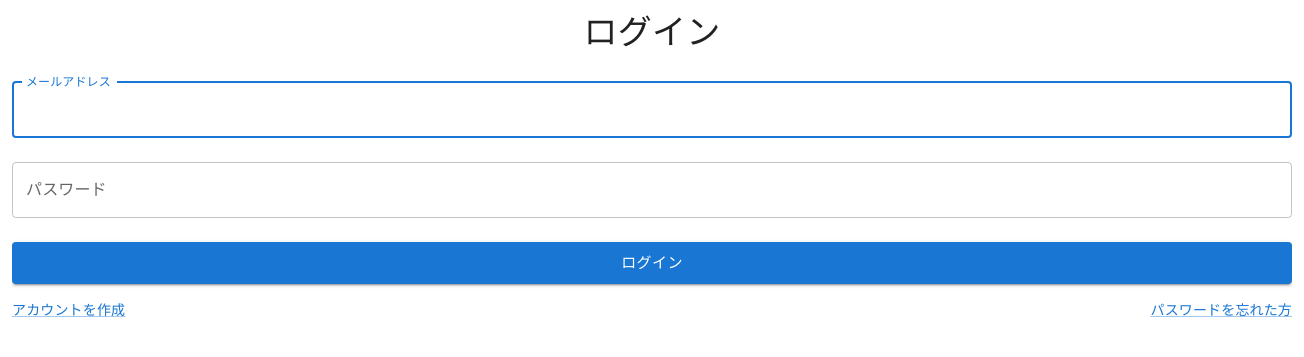
Test: LoginForm › パスワード未入力でバリデーションエラーを表示する
Type "test@example.com" into the field labelled "メールアドレス" at (652, 110), box x1=12 y1=82 x2=1292 y2=138
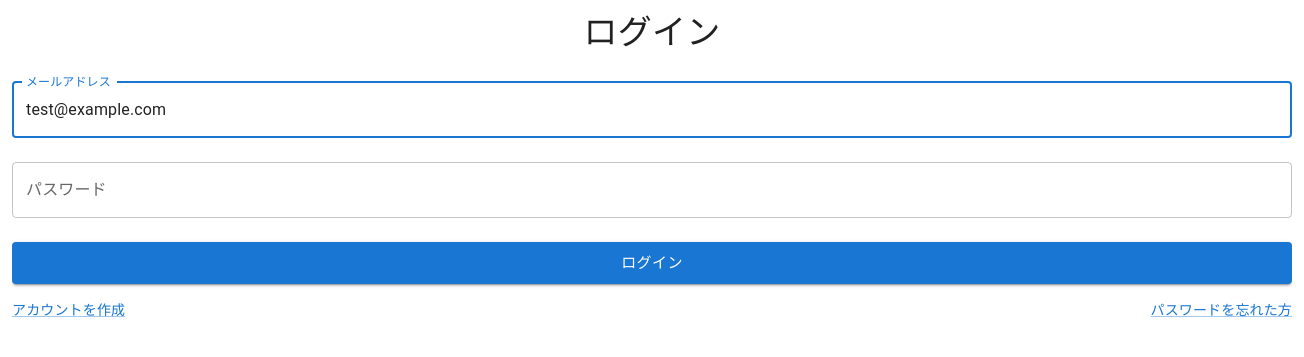
Click the button "ログイン" at (652, 263), box x1=12 y1=242 x2=1292 y2=284
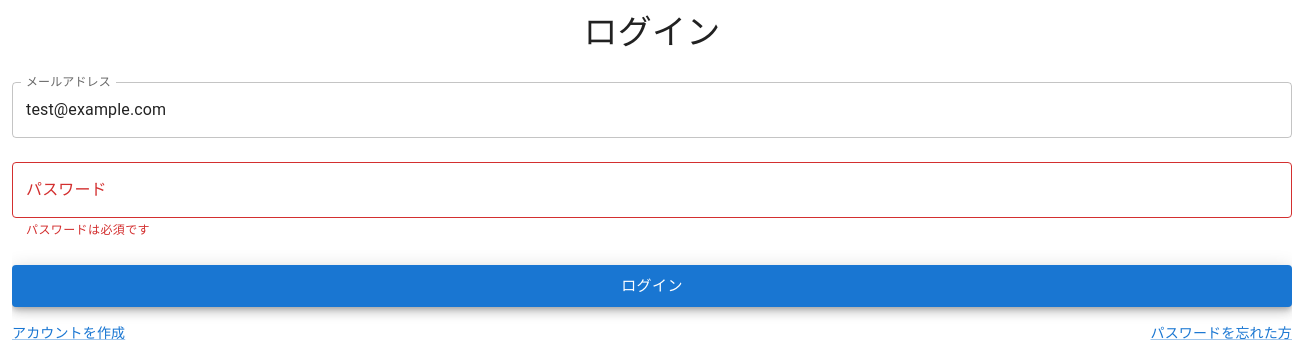
Expected: the text "パスワードは必須です" is shown, x1=26 y1=223 x2=150 y2=237
